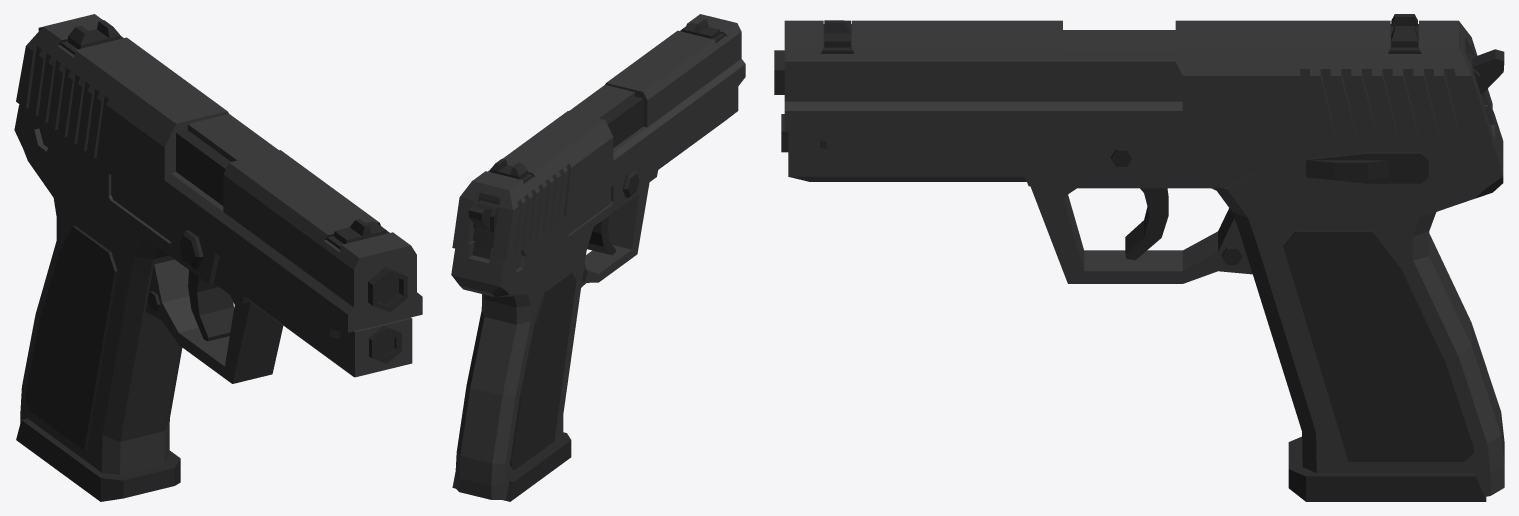
File: Pistol_C.fbx
3 renders of one model, left to right at view 1: azimuth 30°, elevation 25°; view 2: azimuth 150°, elevation 25°; view 3: azimuth 270°, elevation 25°, orthographic. The views are drawn at different scales.
Parts seen in each view (by area): view 1: Pistol_C_Receiver, Pistol_C_BarrelGuard, Pistol_C_Mag, Pistol_C_Trigger, Pistol_C_Barrel; view 2: Pistol_C_Receiver, Pistol_C_BarrelGuard, Pistol_C_Mag, Pistol_C_Bolt, Pistol_C_Trigger; view 3: Pistol_C_Receiver, Pistol_C_BarrelGuard, Pistol_C_Mag, Pistol_C_Trigger, Pistol_C_Bolt.
Boxes of the visible parts, box(x1,y1,x2,y2) form: Pistol_C_Receiver: box(14, 104, 412, 474); Pistol_C_BarrelGuard: box(16, 14, 422, 332); Pistol_C_Mag: box(16, 418, 180, 501); Pistol_C_Trigger: box(188, 270, 234, 341); Pistol_C_Barrel: box(368, 267, 407, 312); Pistol_C_Receiver: box(451, 87, 738, 499); Pistol_C_BarrelGuard: box(452, 14, 745, 260); Pistol_C_Mag: box(452, 432, 571, 501); Pistol_C_Bolt: box(468, 200, 498, 232); Pistol_C_Trigger: box(587, 216, 615, 255); Pistol_C_Receiver: box(781, 105, 1504, 496); Pistol_C_BarrelGuard: box(784, 14, 1492, 142); Pistol_C_Mag: box(1288, 436, 1486, 501); Pistol_C_Trigger: box(1125, 188, 1168, 260); Pistol_C_Bolt: box(1465, 49, 1504, 94).
Bounding box in the file's own units: 0.0358 × 0.18 × 0.2593.
